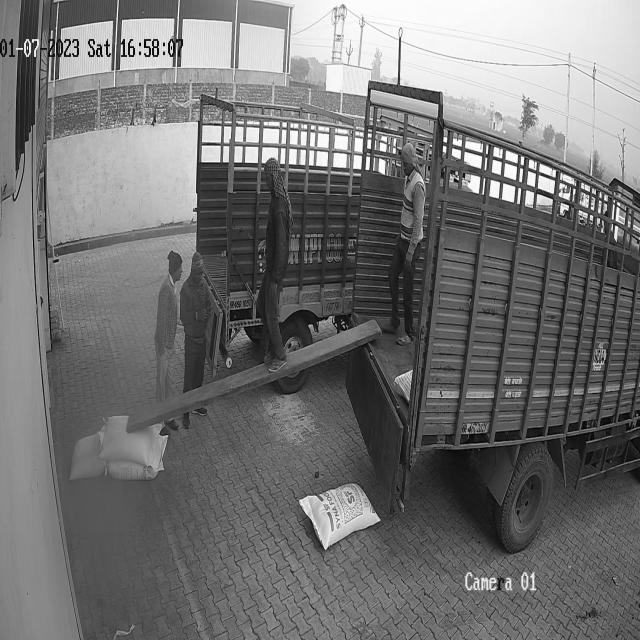sack: (299, 483, 380, 550), (100, 414, 164, 465), (104, 435, 168, 479), (68, 432, 105, 478)
